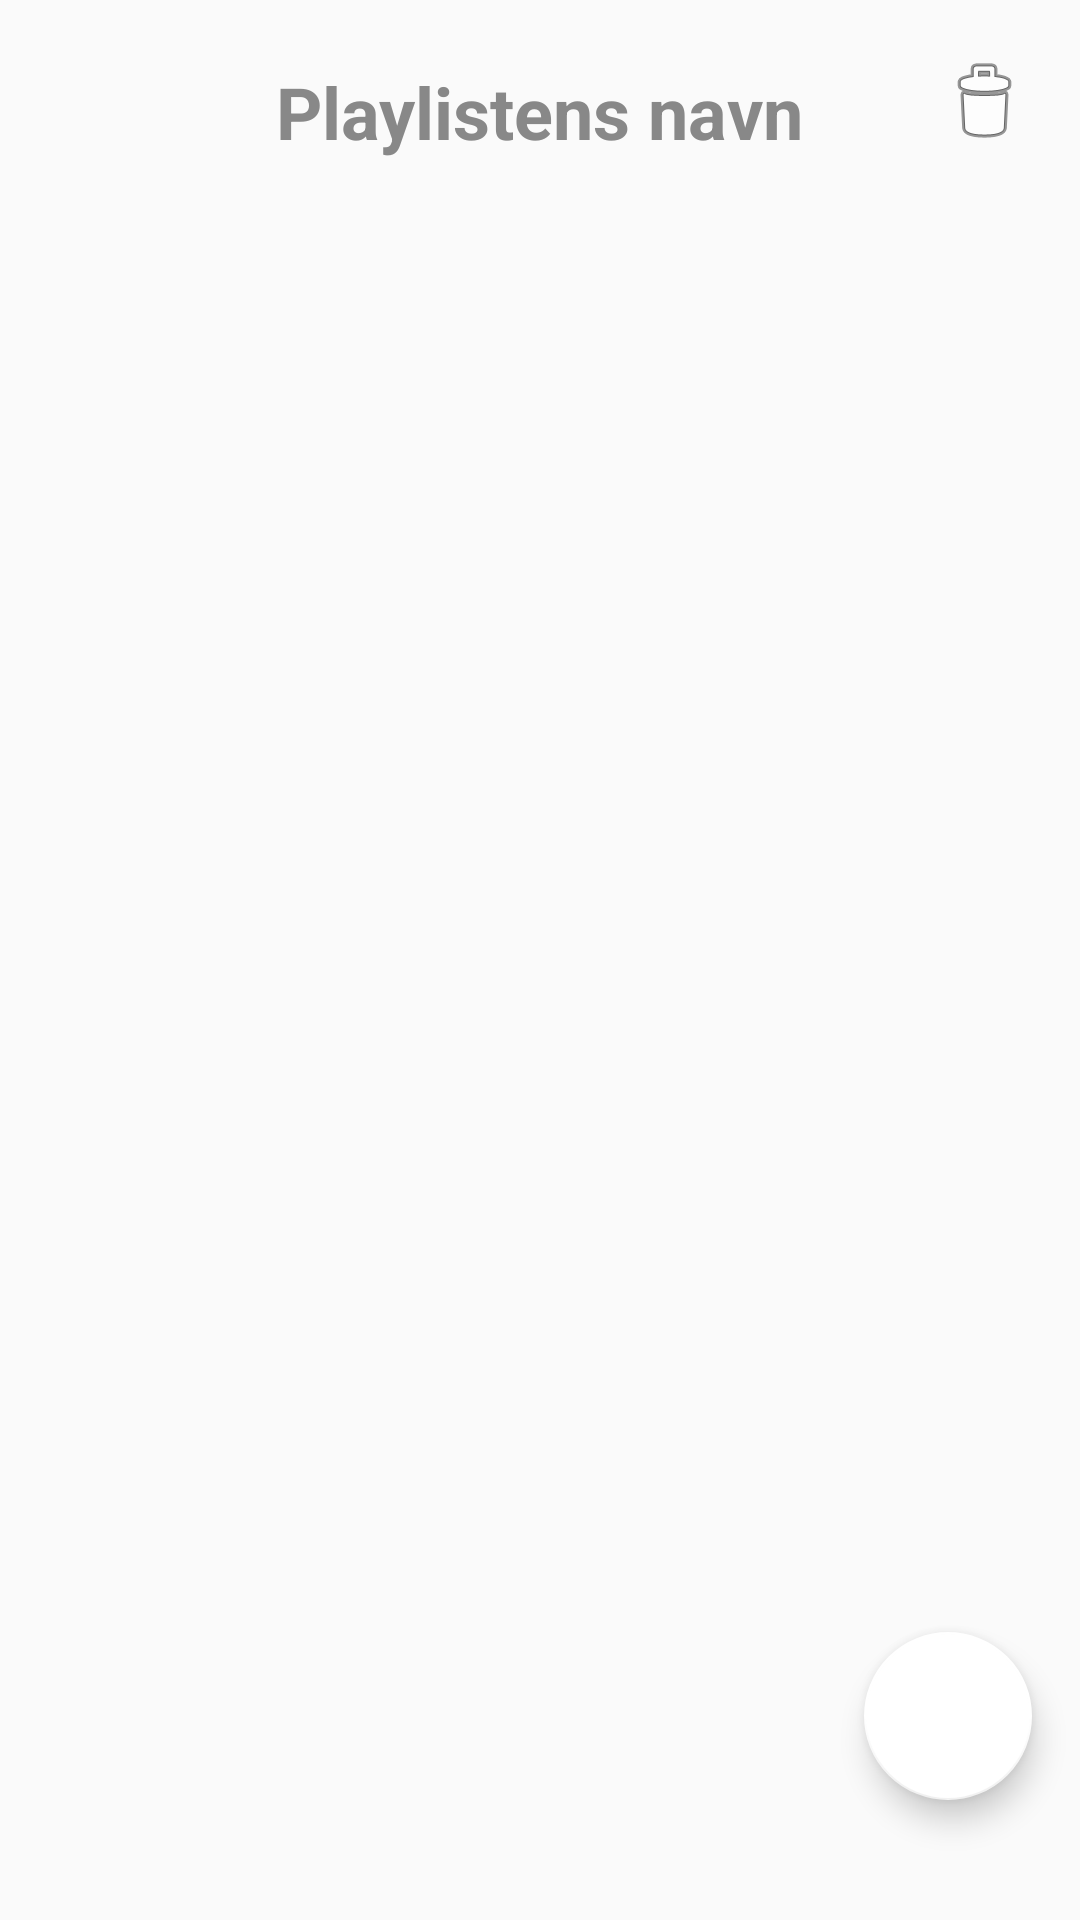

Icon click points for this 1080w x 1920h phone screenshot, format point (x, y):
Slet Playlist: point (984, 100)
